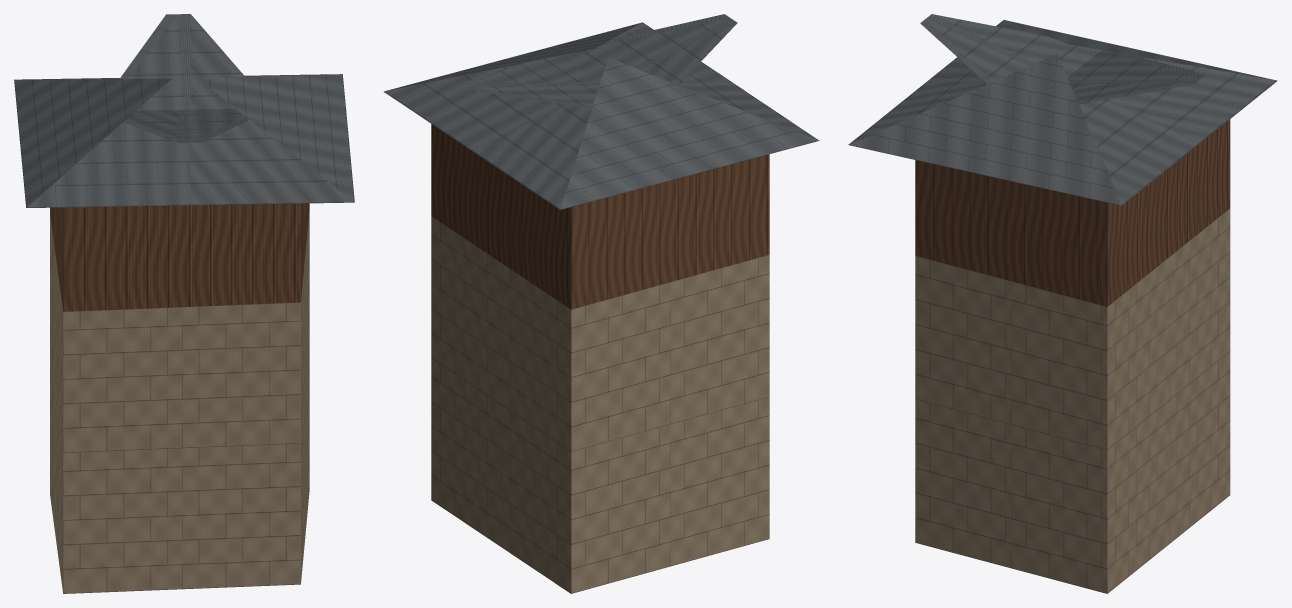
File: bld_c9_38_496.gltf
3 renders of one model, left to right at view 1: azimuth 30°, elevation 25°; view 2: azimuth 150°, elevation 25°; view 3: azimuth 270°, elevation 25°, orthographic.
Parts seen in each view (by area): view 1: bld_c9_38_496; view 2: bld_c9_38_496; view 3: bld_c9_38_496.
Part boxes in pixels (bbox=[...]): bld_c9_38_496: bbox=[14, 14, 354, 593]; bld_c9_38_496: bbox=[383, 14, 819, 593]; bld_c9_38_496: bbox=[848, 14, 1277, 593].
Size of the model in its own units: 6.26 by 7.4 by 6.11.
Materials: 3 (3 with a texture image).
